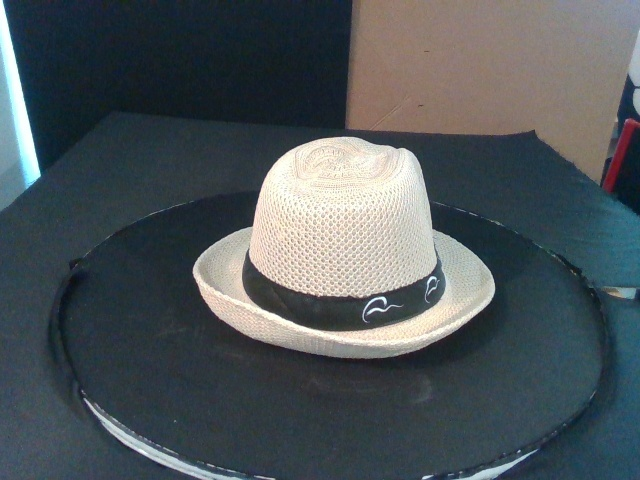hat: (194, 136, 497, 358)
